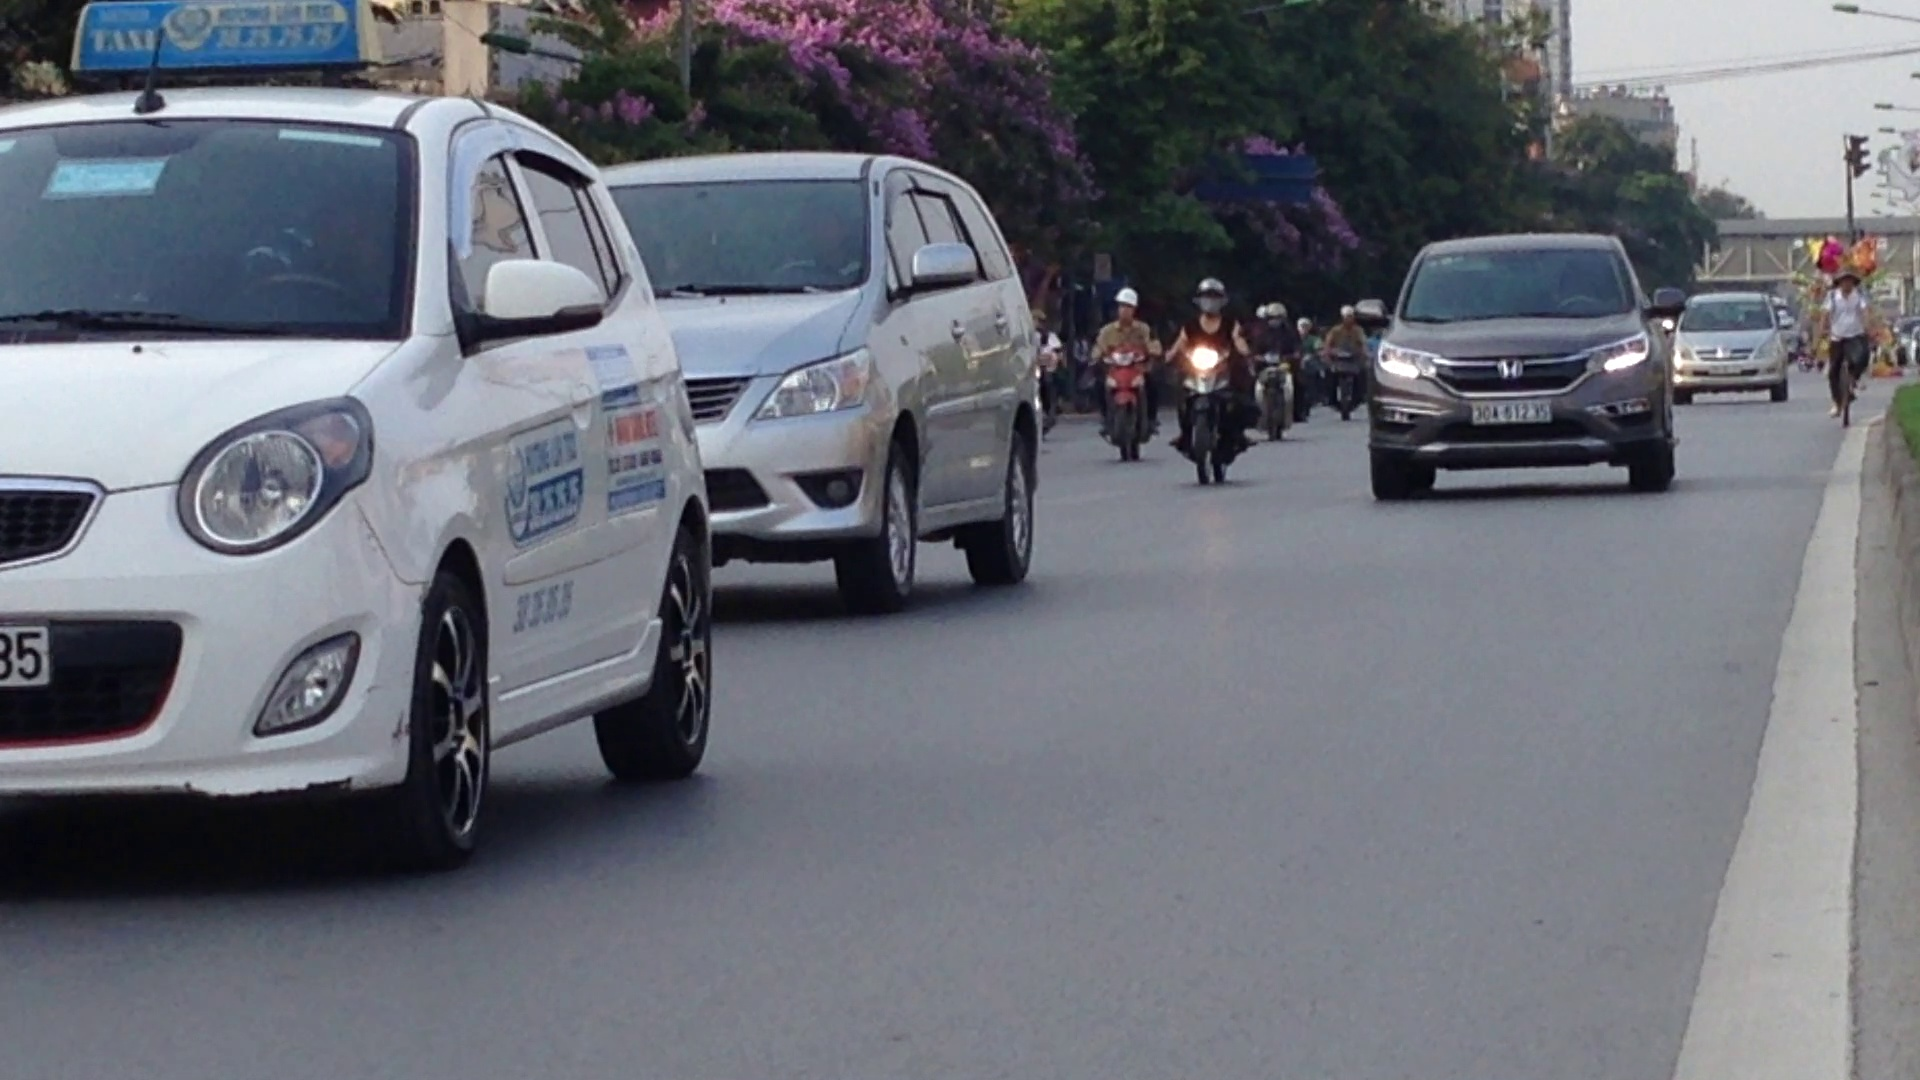vehicle-plate: (1468, 398, 1555, 426)
